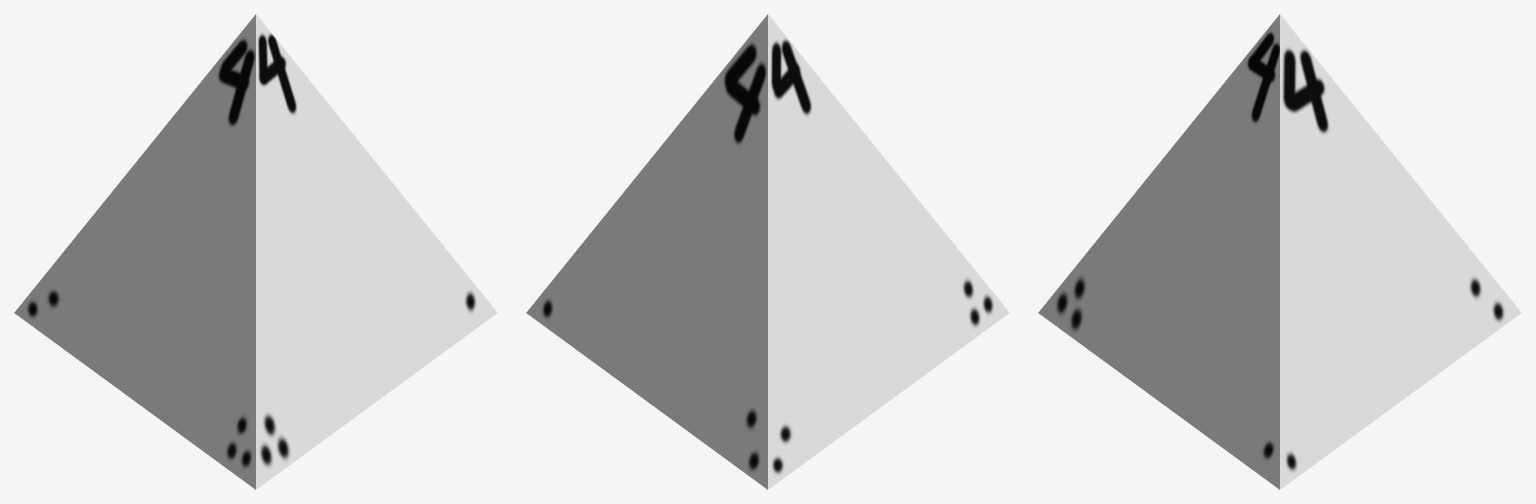
3 renders of one model, left to right at view 1: azimuth 30°, elevation 25°; view 2: azimuth 150°, elevation 25°; view 3: azimuth 270°, elevation 25°, orthographic.
Parts seen in each view (by area): view 1: d4; view 2: d4; view 3: d4.
Boxes of the visible parts, left/top/right/bottom form: d4: left=14, top=14, right=497, bottom=489; d4: left=526, top=14, right=1009, bottom=489; d4: left=1038, top=14, right=1521, bottom=489.
Bounding box in the file's own units: 2.12 × 2 × 2.45.
Materials: 1 (1 with a texture image).
